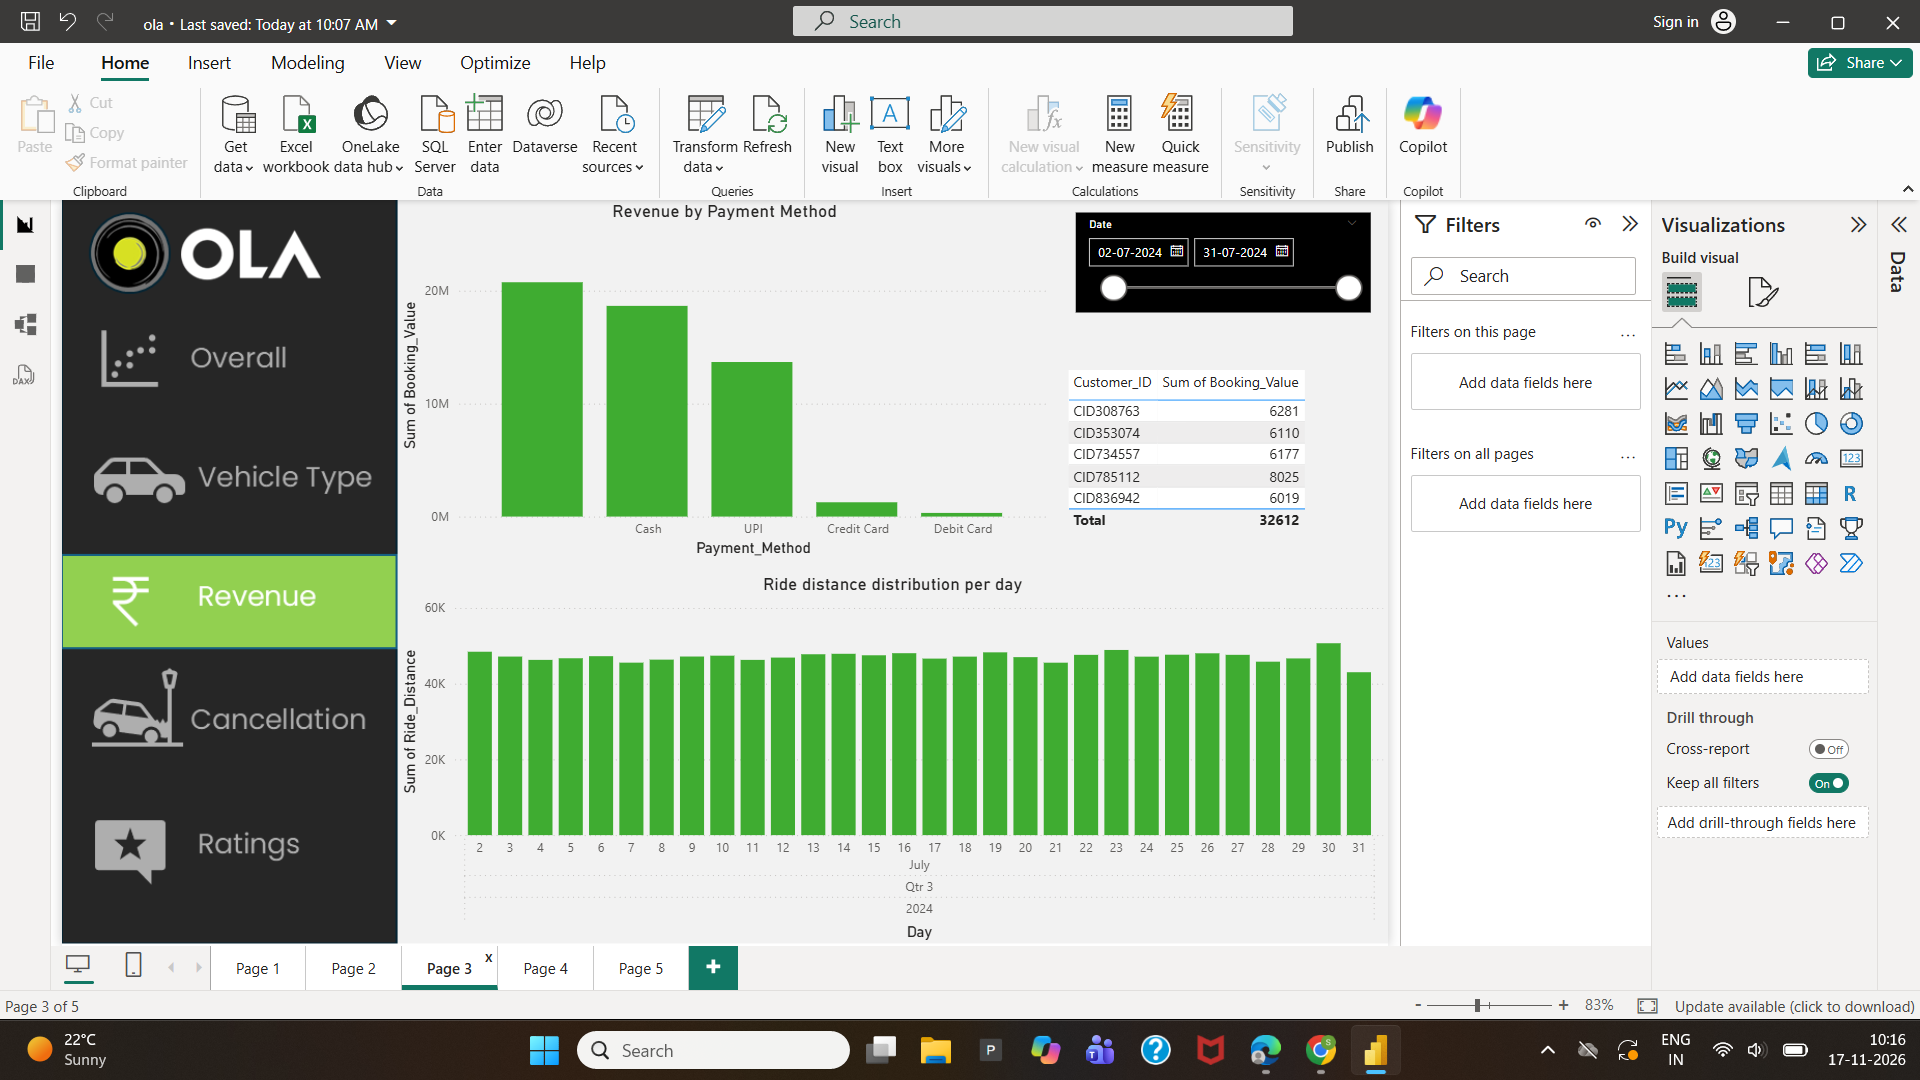

This screenshot's page, from the dashboard's own definition file:
{"tool":"powerbi","page":{"name":"Page 3","canvas":[1280,720],"ordinal":2},"visuals":[{"type":"columnChart","title":"Revenue by Payment Method","fields":{"Y":["Sum(Bookings-July.Booking_Value)"],"Category":["Bookings-July.Payment_Method"]},"box":[323.2,0,632.5,349.5],"z":0},{"type":"columnChart","title":"Ride distance distribution per day","fields":{"Y":["Sum(Bookings-July.Ride_Distance)"],"Category":["Bookings-July.Date.Variation.Date Hierarchy.Year","Bookings-July.Date.Variation.Date Hierarchy.Quarter","Bookings-July.Date.Variation.Date Hierarchy.Month","Bookings-July.Date.Variation.Date Hierarchy.Day"]},"box":[323.2,360.6,957.1,359.3],"z":1000},{"type":"slicer","fields":{"Values":["Bookings-July.Date"]},"box":[977.9,12.5,284.4,95.7],"z":2000},{"type":"tableEx","fields":{"Values":["Bookings-July.Customer_ID","Sum(Bookings-July.Booking_Value)"]},"box":[965.4,159.5,314.9,201.1],"z":3000}]}

Visuals, with their boxes on the page's 1280x720 design canvas (x1, y1, x2, y2). These are canvas units, not pixel positions in the 1920x1080 screenshot, which may show the page scaled, cropped or inside an application window:
"Revenue by Payment Method" columnChart: x1=323 y1=0 x2=956 y2=350
"Ride distance distribution per day" columnChart: x1=323 y1=361 x2=1280 y2=720
slicer - Bookings-July.Date: x1=978 y1=12 x2=1262 y2=108
tableEx - Bookings-July.Customer_ID x Sum(Bookings-July.Booking_Value): x1=965 y1=160 x2=1280 y2=361
